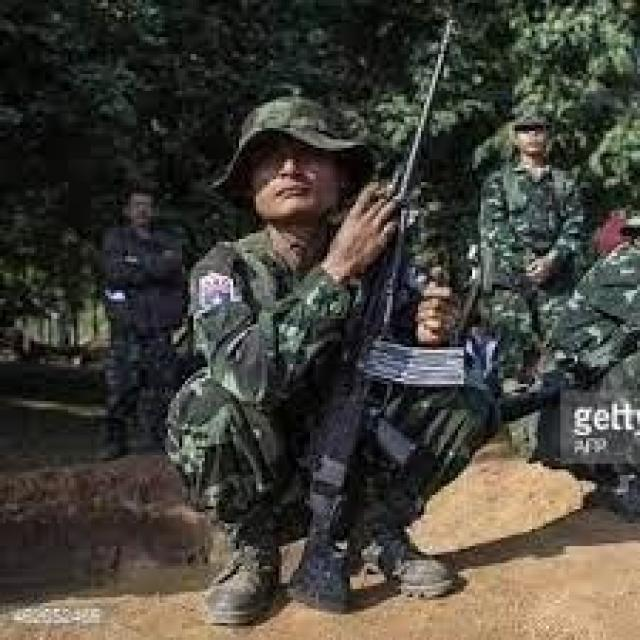gun: (289, 19, 463, 609)
